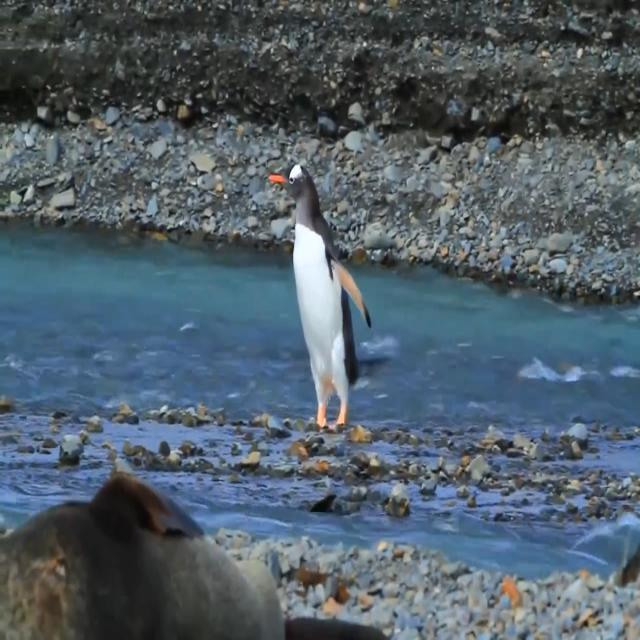penguin: (268, 164, 373, 432)
